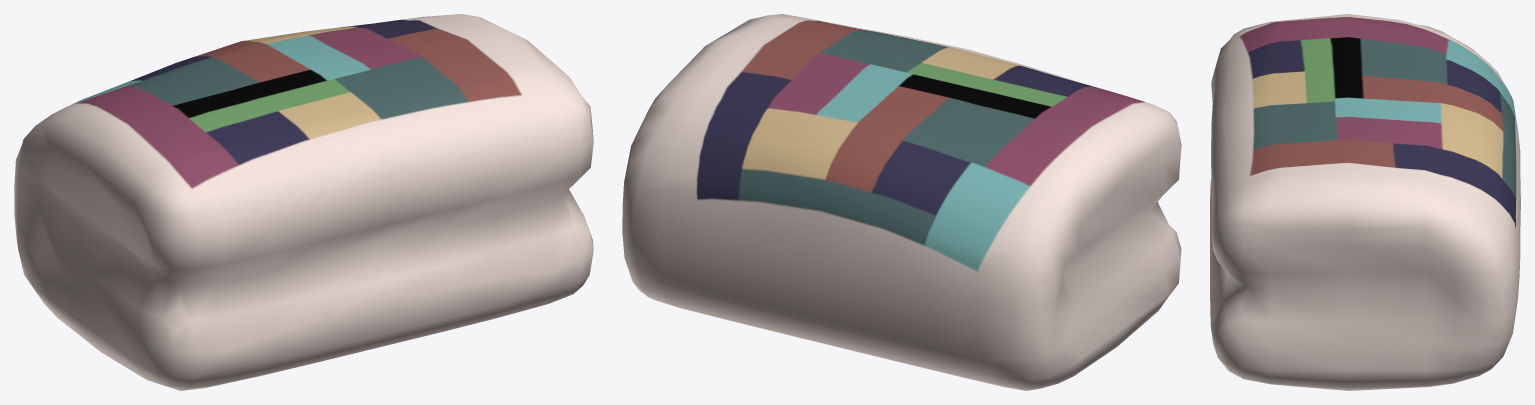
Rendered from bedding_001.fbx.
3 views of the same model, side by side, from view 1: azimuth 30°, elevation 25°; view 2: azimuth 150°, elevation 25°; view 3: azimuth 270°, elevation 25° (orthographic). The views are drawn at different scales.
Parts seen in each view (by area): view 1: bedding_001; view 2: bedding_001; view 3: bedding_001.
Part boxes in pixels (x1,y1,x2,y2): bedding_001: (14,14,593,390); bedding_001: (622,14,1181,390); bedding_001: (1210,14,1520,390).
Size of the model in its own units: 174 by 89.25 by 117.
Materials: 1 (1 with a texture image).
